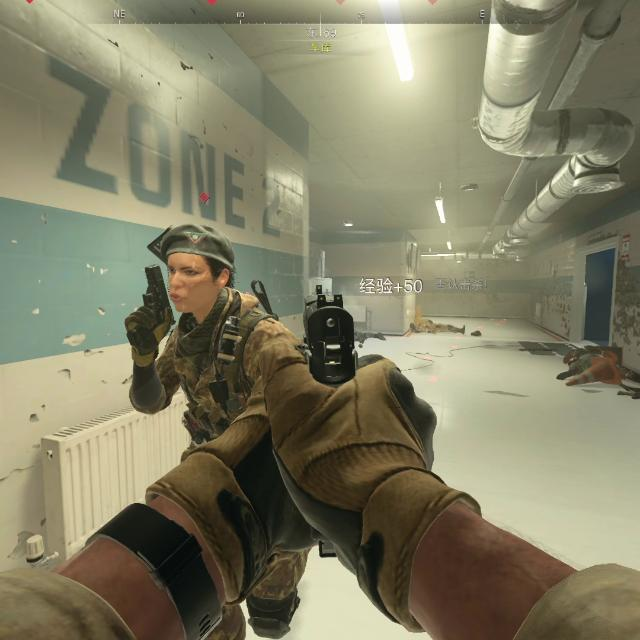MW2_body: (129, 192, 279, 429)
